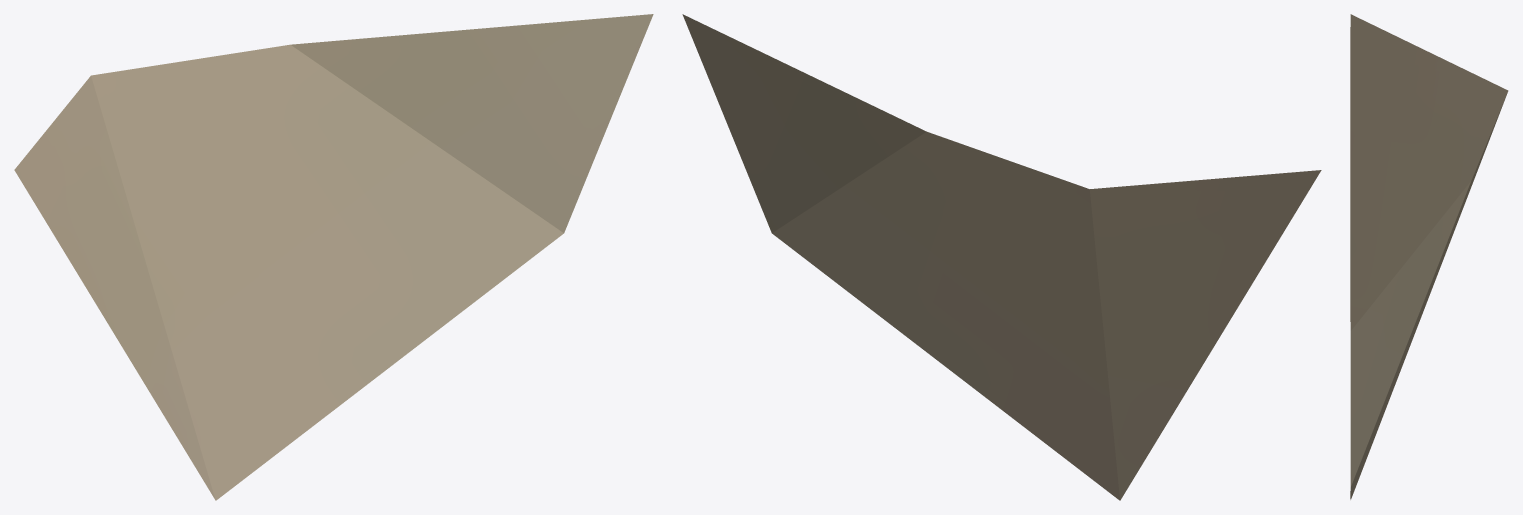
3 renders of one model, left to right at view 1: azimuth 30°, elevation 25°; view 2: azimuth 150°, elevation 25°; view 3: azimuth 270°, elevation 25°, orthographic.
Bounding box in the file's own units: 2.71 × 1.54 × 0.5708.
Materials: 1 (1 with a texture image).
